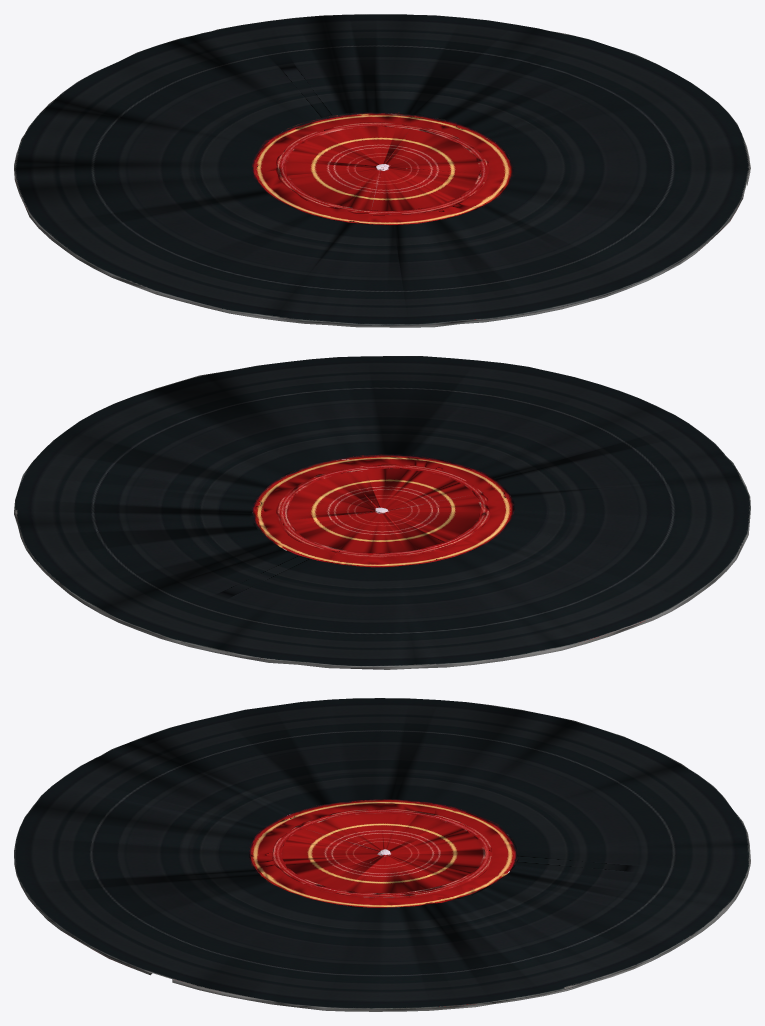
The model's file is atl-record.glb.
The picture shows the model from 3 angles, top to bottom: view 1: azimuth 30°, elevation 25°; view 2: azimuth 150°, elevation 25°; view 3: azimuth 270°, elevation 25°; orthographic projection.
Bounding box in the file's own units: 0.9502 × 0.00781 × 0.9526.
Materials: 1 (1 with a texture image).
